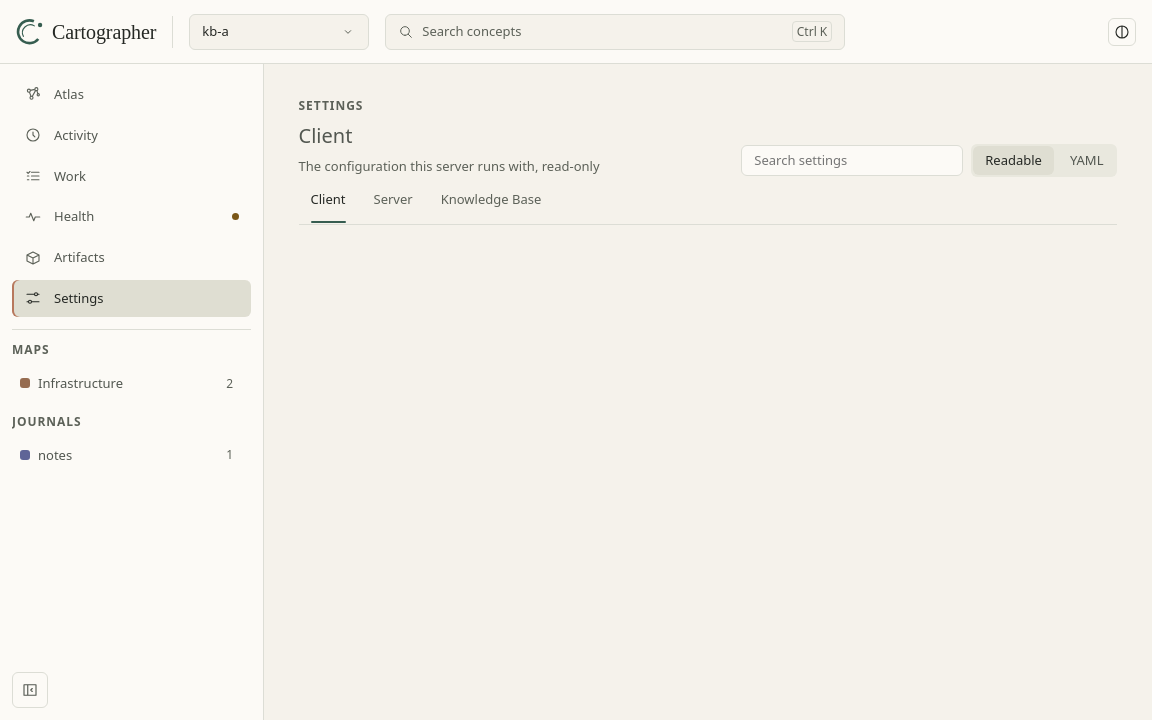
the reference panels › lists the KB's placeholders in Settings, where an old Paths link lands
What coordinates should you click on to do the following:
click the tab "Knowledge Base"
I would click on:
 (491, 200)
Its box is [429,177,553,224].
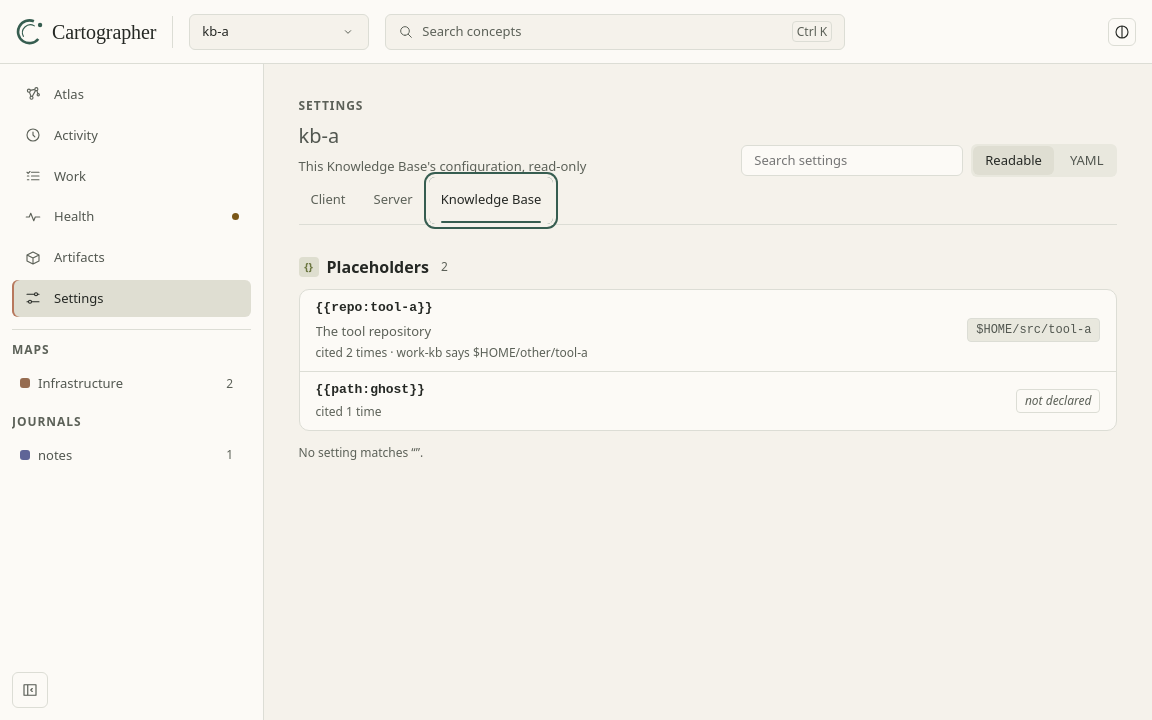
Now the text "{{repo:tool-a}}" is shown, box [316,300,432,315]
Now the text "cited 2 times · work-kb says $HOME/other/tool-a" is shown, box [316,344,588,361]
Now the text "not declared" is shown, box [1016,388,1100,412]
